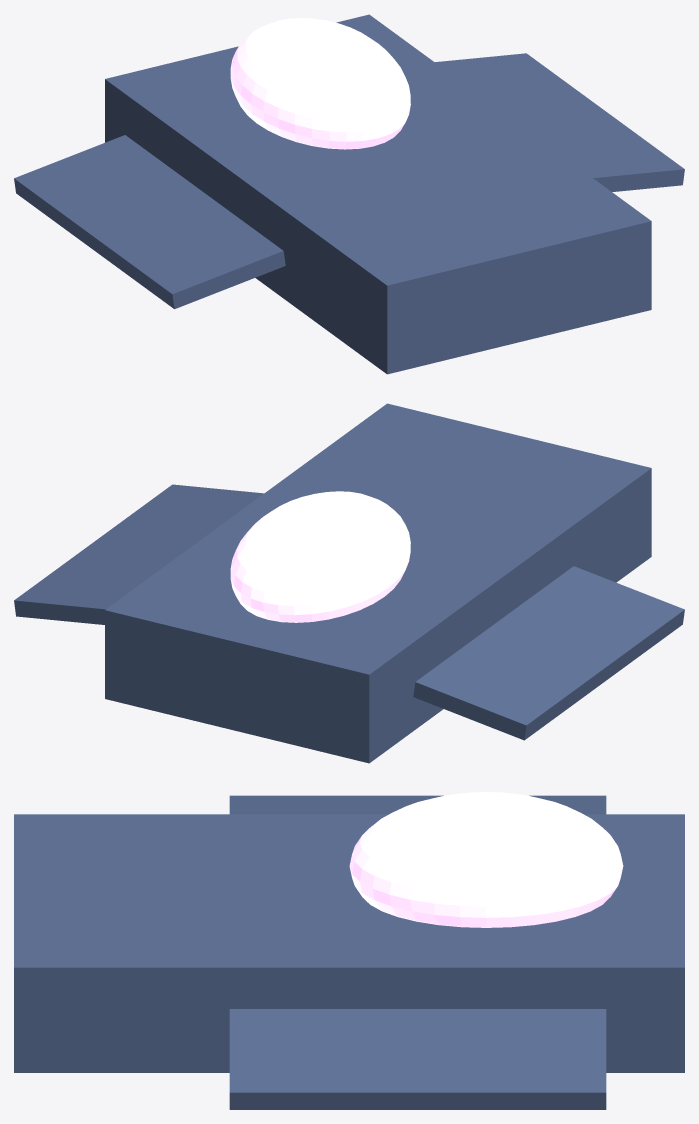
Rendered from scout_t2.glb.
3 renders of one model, top to bottom at view 1: azimuth 30°, elevation 25°; view 2: azimuth 150°, elevation 25°; view 3: azimuth 270°, elevation 25°, orthographic. The views are drawn at different scales.
Visible parts, largest first — view 1: Cube, Cube.002, Sphere, Cube.001; view 2: Cube, Cube.002, Sphere, Cube.001; view 3: Cube, Cube.001, Sphere, Cube.002.
Part boxes in pixels (left/top/right/bottom): Cube: left=105, top=14, right=651, bottom=374; Cube.002: left=14, top=135, right=285, bottom=309; Sphere: left=230, top=18, right=410, bottom=149; Cube.001: left=435, top=53, right=684, bottom=191; Cube: left=105, top=403, right=651, bottom=763; Cube.002: left=413, top=566, right=684, bottom=740; Sphere: left=230, top=491, right=410, bottom=622; Cube.001: left=14, top=484, right=263, bottom=624; Cube: left=14, top=814, right=684, bottom=1072; Cube.001: left=229, top=1009, right=606, bottom=1109; Sphere: left=349, top=792, right=623, bottom=927; Cube.002: left=229, top=795, right=606, bottom=814.
Size of the model in its own units: 2.05 by 0.62 by 1.96.
